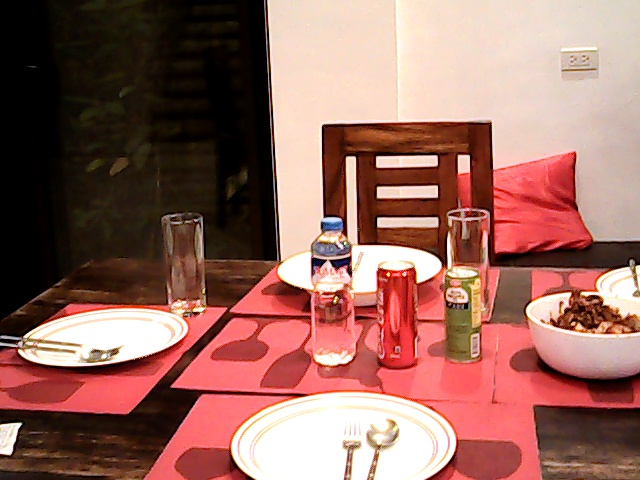Cola: (372, 253, 423, 375)
Pine Juice: (436, 263, 487, 366)
Summit Water: (305, 211, 361, 367)
